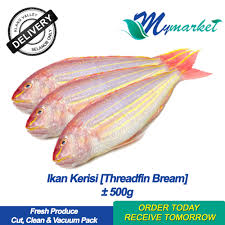Ikan Kerisi: (48, 102, 214, 171), (8, 78, 140, 140), (8, 53, 133, 110)
